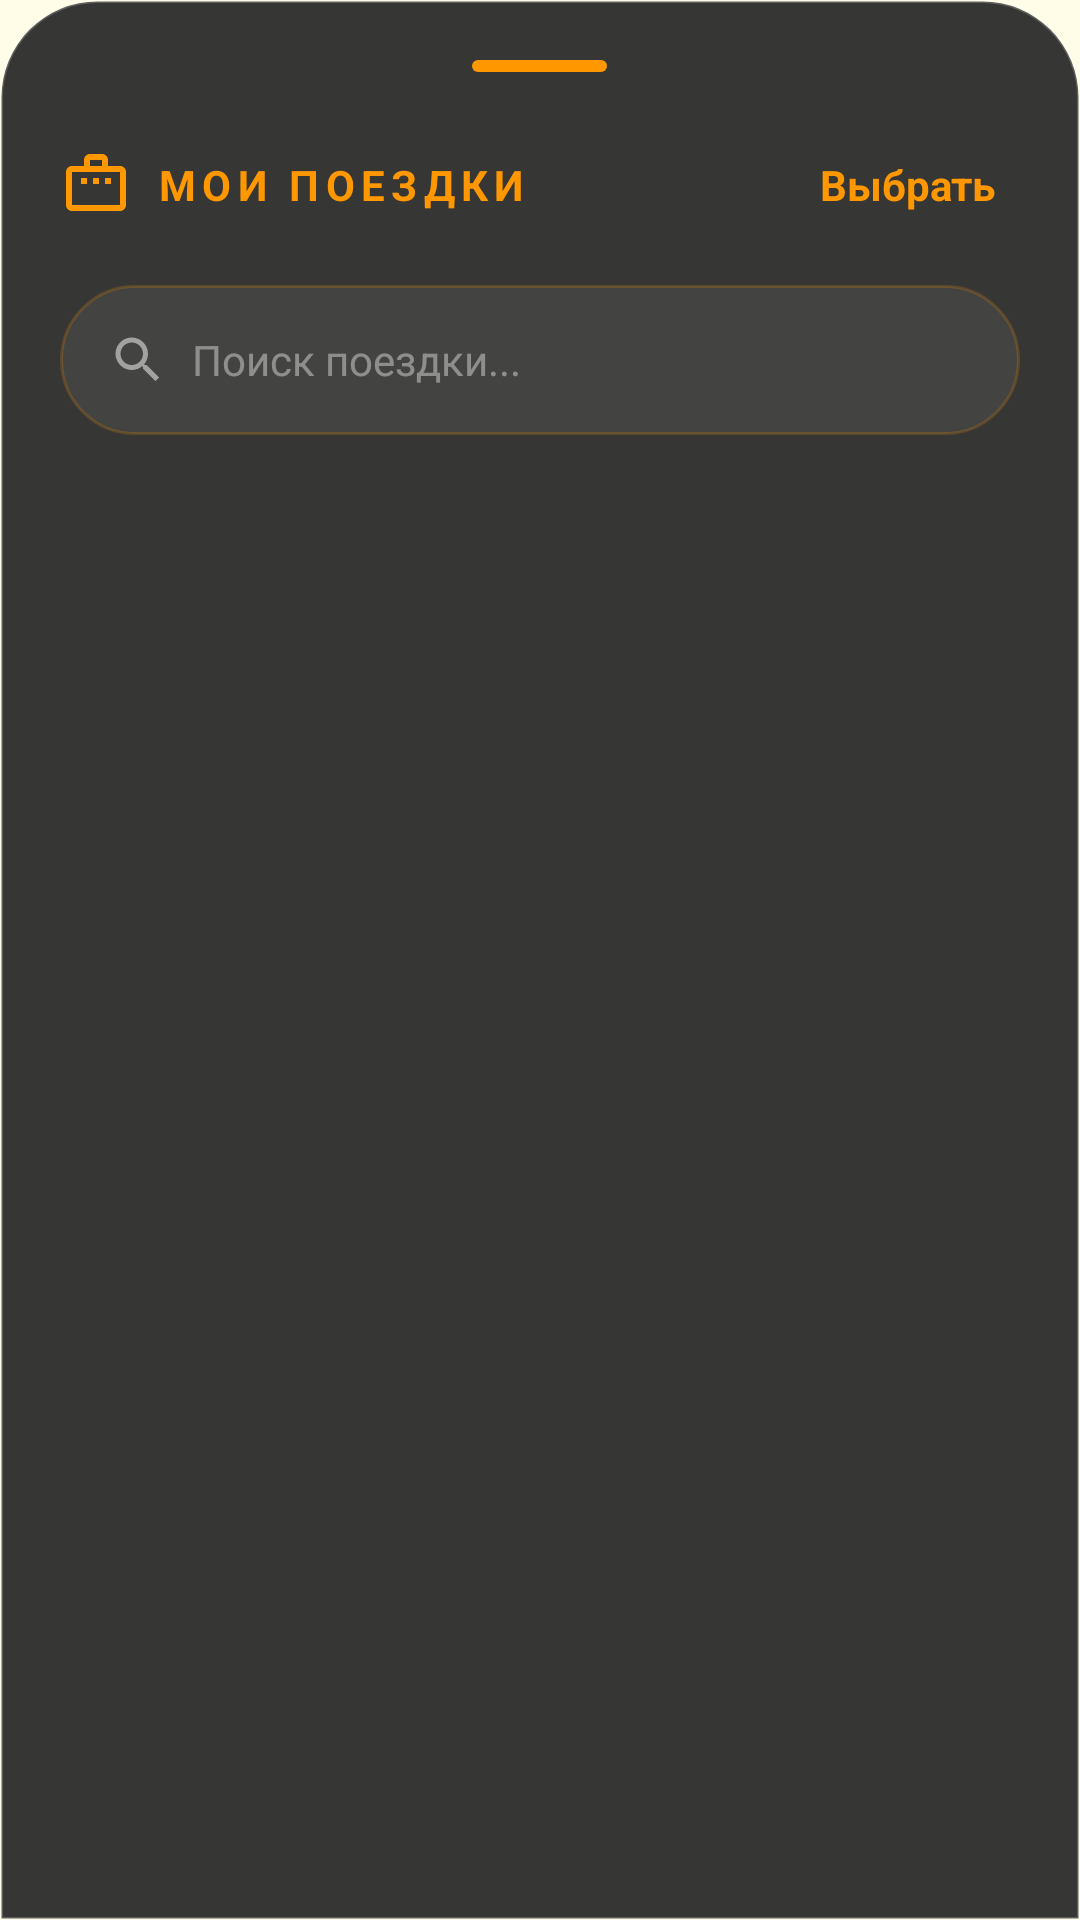

Screen size 1080*1920. Icon name, then its box in pixels as (x1, y1, x2, y2):
list travel: (66, 154, 126, 211)
search mini: (115, 337, 159, 381)
